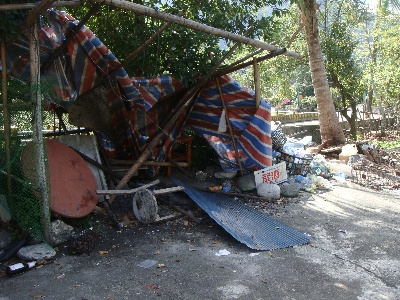plastic_bag: (13, 7, 276, 176)
